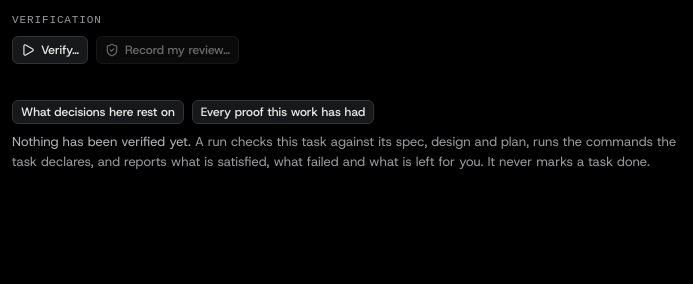
Test: what a decision rests on › asks for nothing until a person asks, then reads one bounded page
Click the button "What decisions here rest on": x=98, y=112 top-left (12, 100), bottom-right (184, 124)
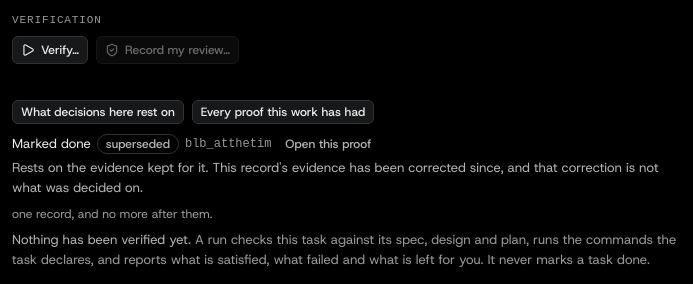
Result: the text "Marked done" is shown at top-left (12, 134), bottom-right (91, 154)
Result: the text "blb_atthetim" is shown at top-left (185, 136), bottom-right (271, 152)
Result: the text "has been corrected since" is shown at top-left (12, 159), bottom-right (658, 196)
